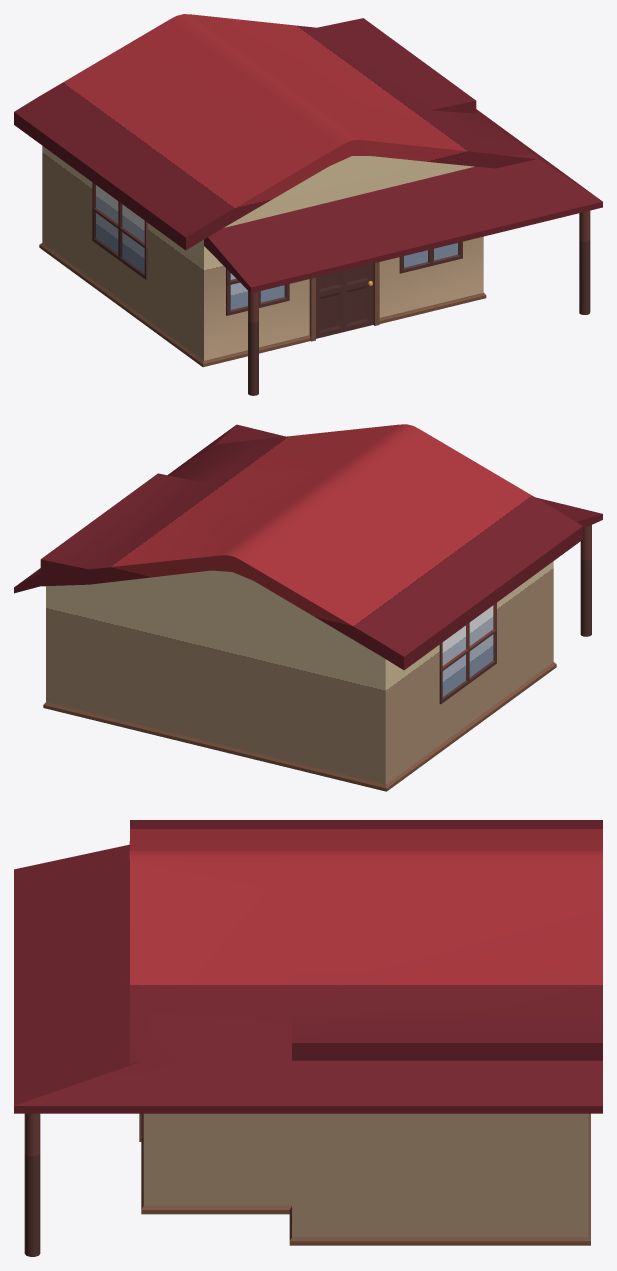
The model's file is FarmHouse.fbx.
3 views of the same model, one above another, from view 1: azimuth 30°, elevation 25°; view 2: azimuth 150°, elevation 25°; view 3: azimuth 270°, elevation 25° (orthographic). The views are drawn at different scales.
Parts seen in each view (by area): view 1: FarmHouse; view 2: FarmHouse; view 3: FarmHouse.
Part boxes in pixels (box(x1,y1,x2,y2)): FarmHouse: box(14, 14, 602, 395); FarmHouse: box(14, 424, 602, 791); FarmHouse: box(14, 820, 602, 1256).
Bounding box in the file's own units: 804 × 398 × 795.
